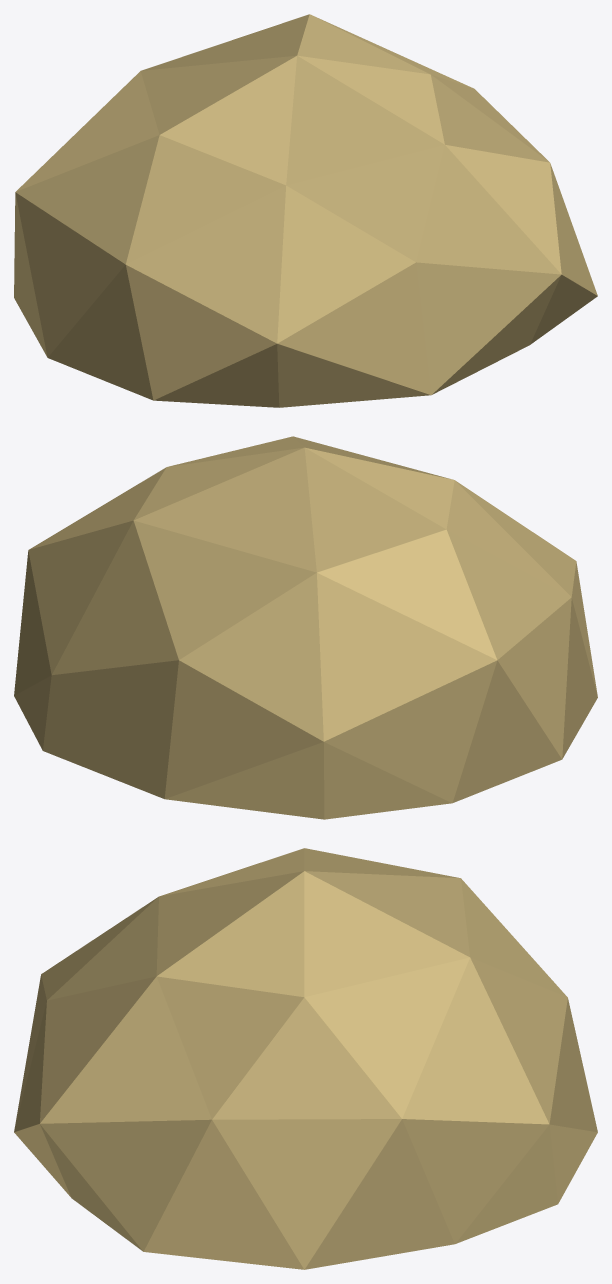
File: sand.glb
3 renders of one model, top to bottom at view 1: azimuth 30°, elevation 25°; view 2: azimuth 150°, elevation 25°; view 3: azimuth 270°, elevation 25°, orthographic. The views are drawn at different scales.
Visible parts, largest first — view 1: sand; view 2: sand; view 3: sand.
Boxes of the visible parts, bbox=[...] form: sand: bbox=[14, 14, 597, 407]; sand: bbox=[14, 436, 597, 819]; sand: bbox=[14, 848, 597, 1269].
Bounding box in the file's own units: 0.9477 × 0.4286 × 0.8684.
